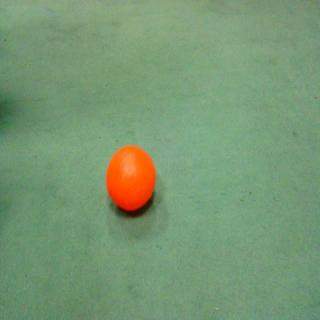orange: (106, 143, 157, 216)
